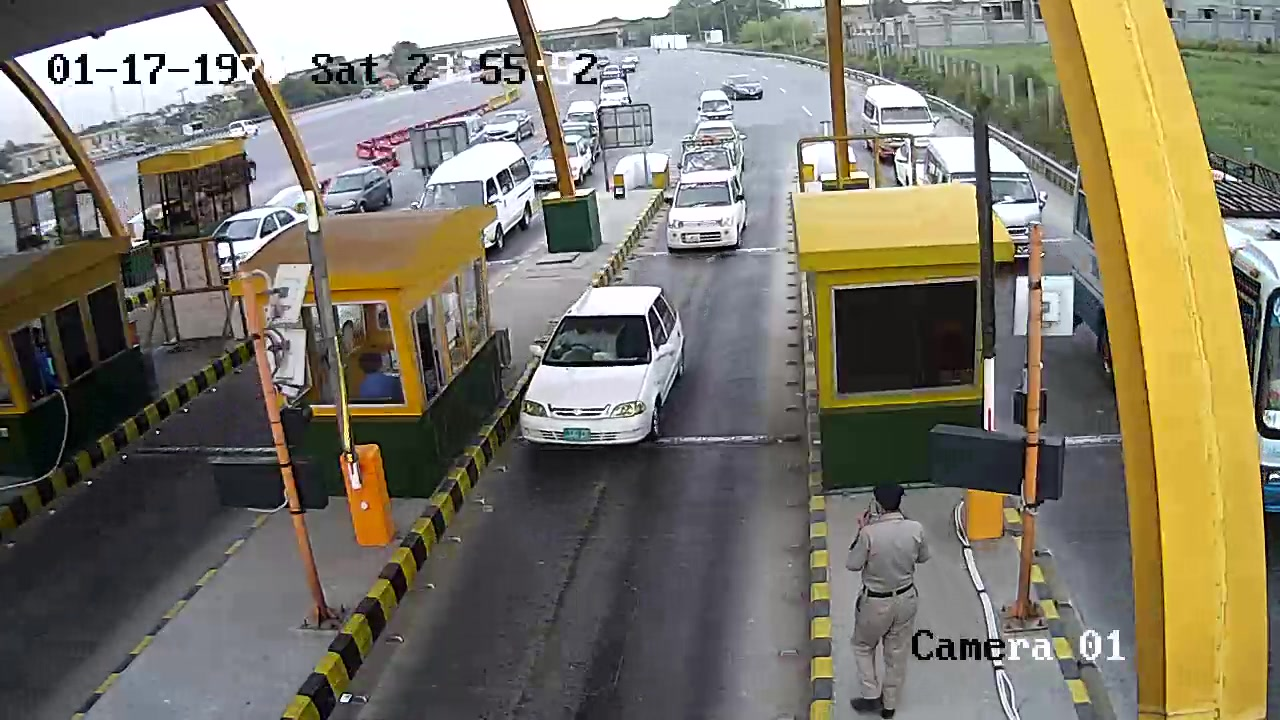F1: (507, 282, 695, 491)
